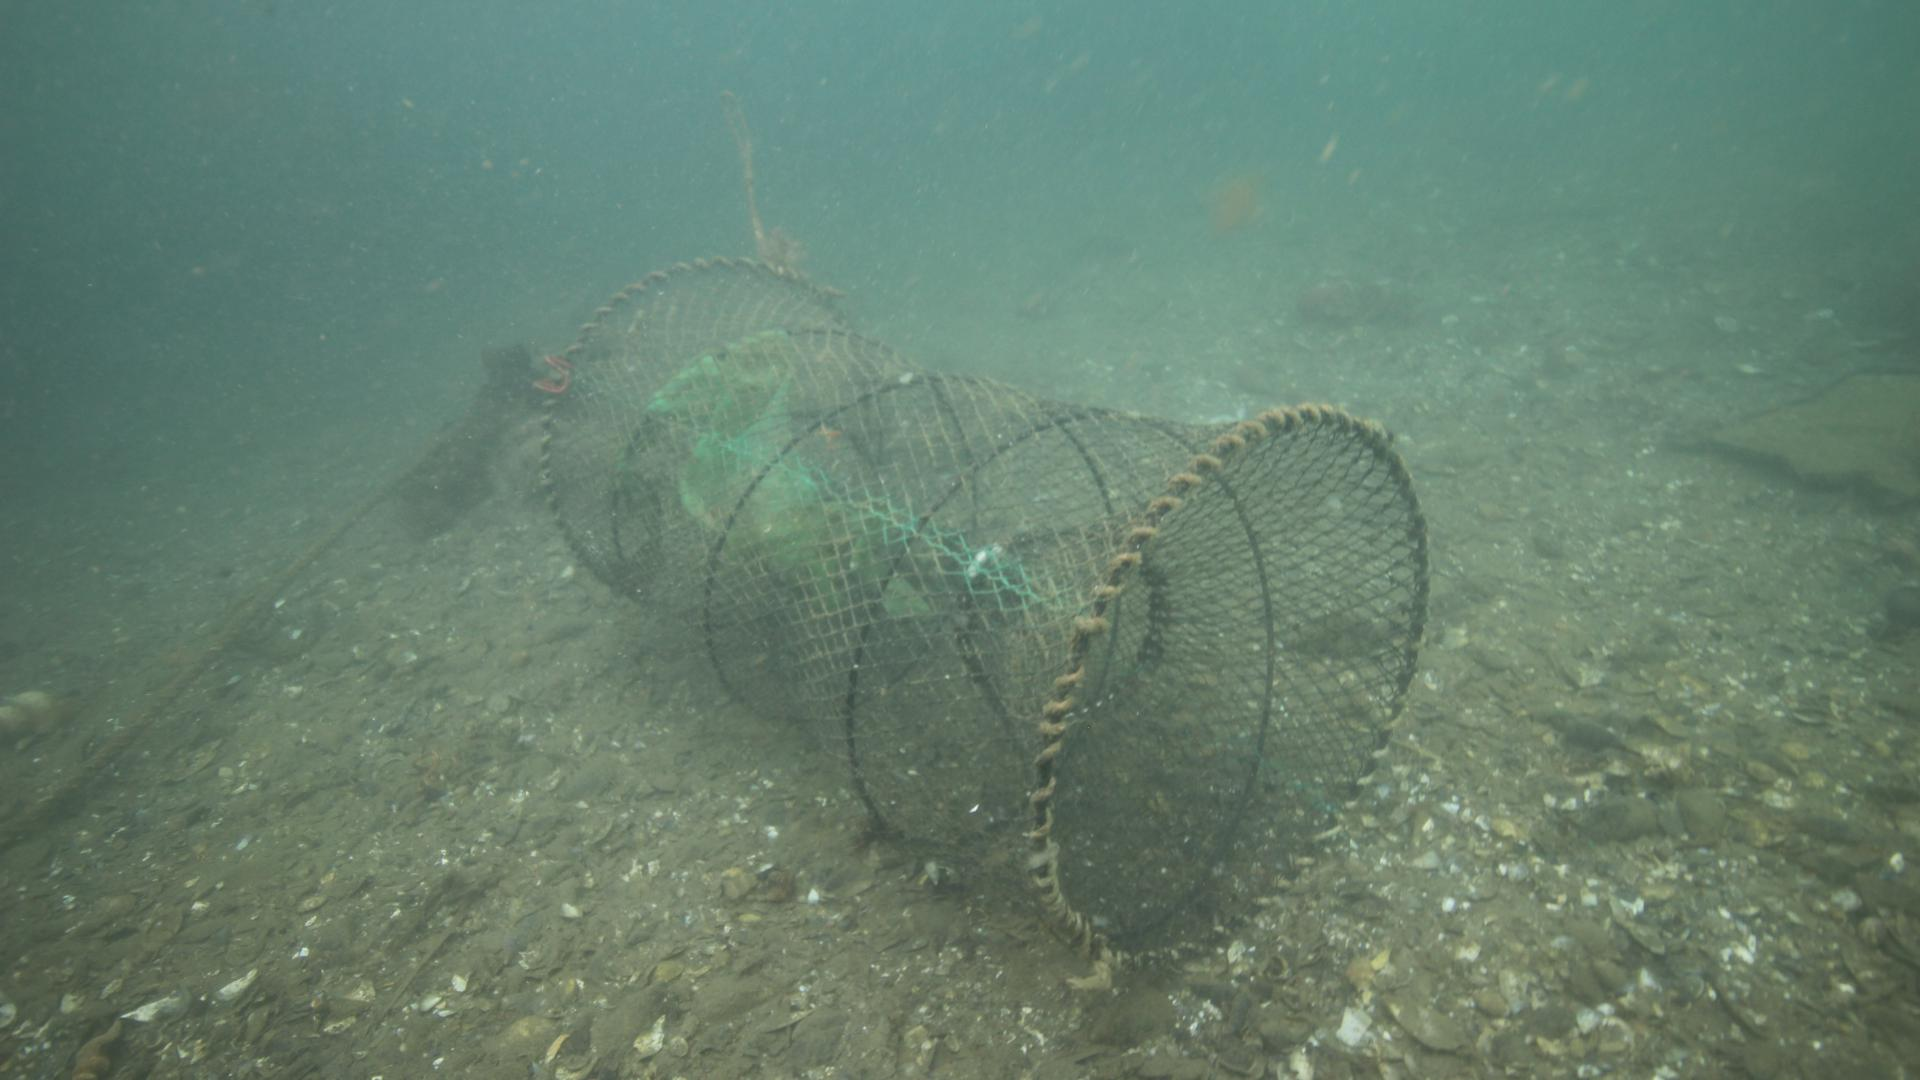rope: (712, 84, 775, 255)
spring fish trap: (537, 251, 1429, 975)
